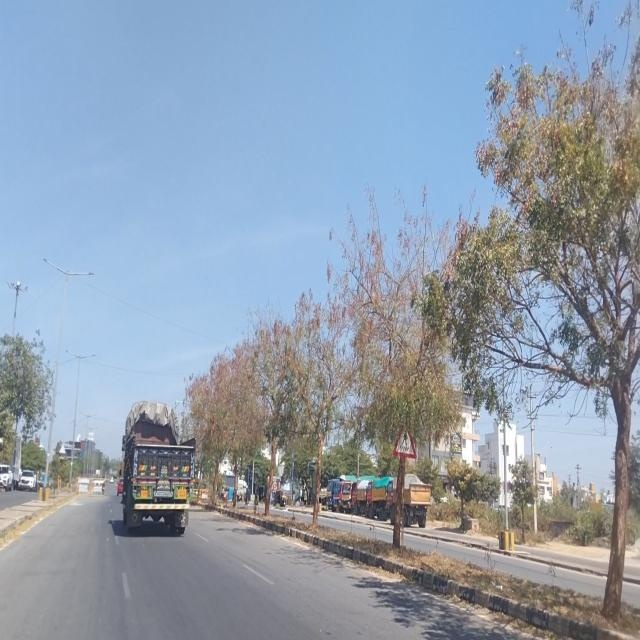bien_nguy_hiem: (393, 416, 418, 462)
